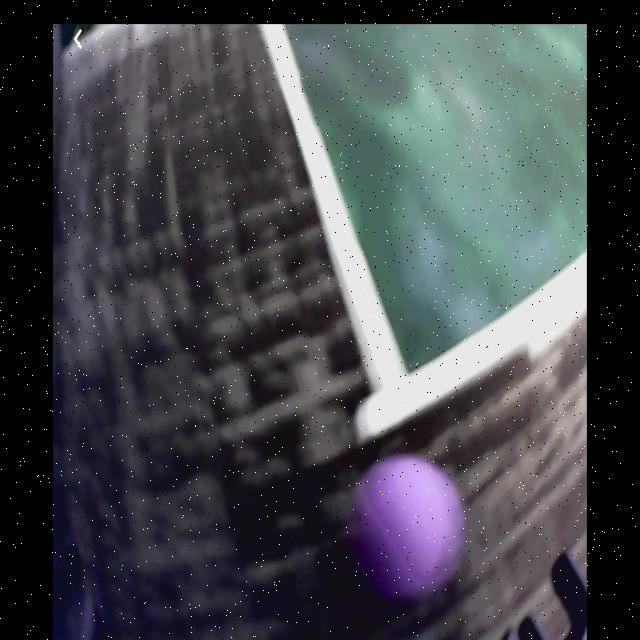ball: (354, 459, 466, 597)
